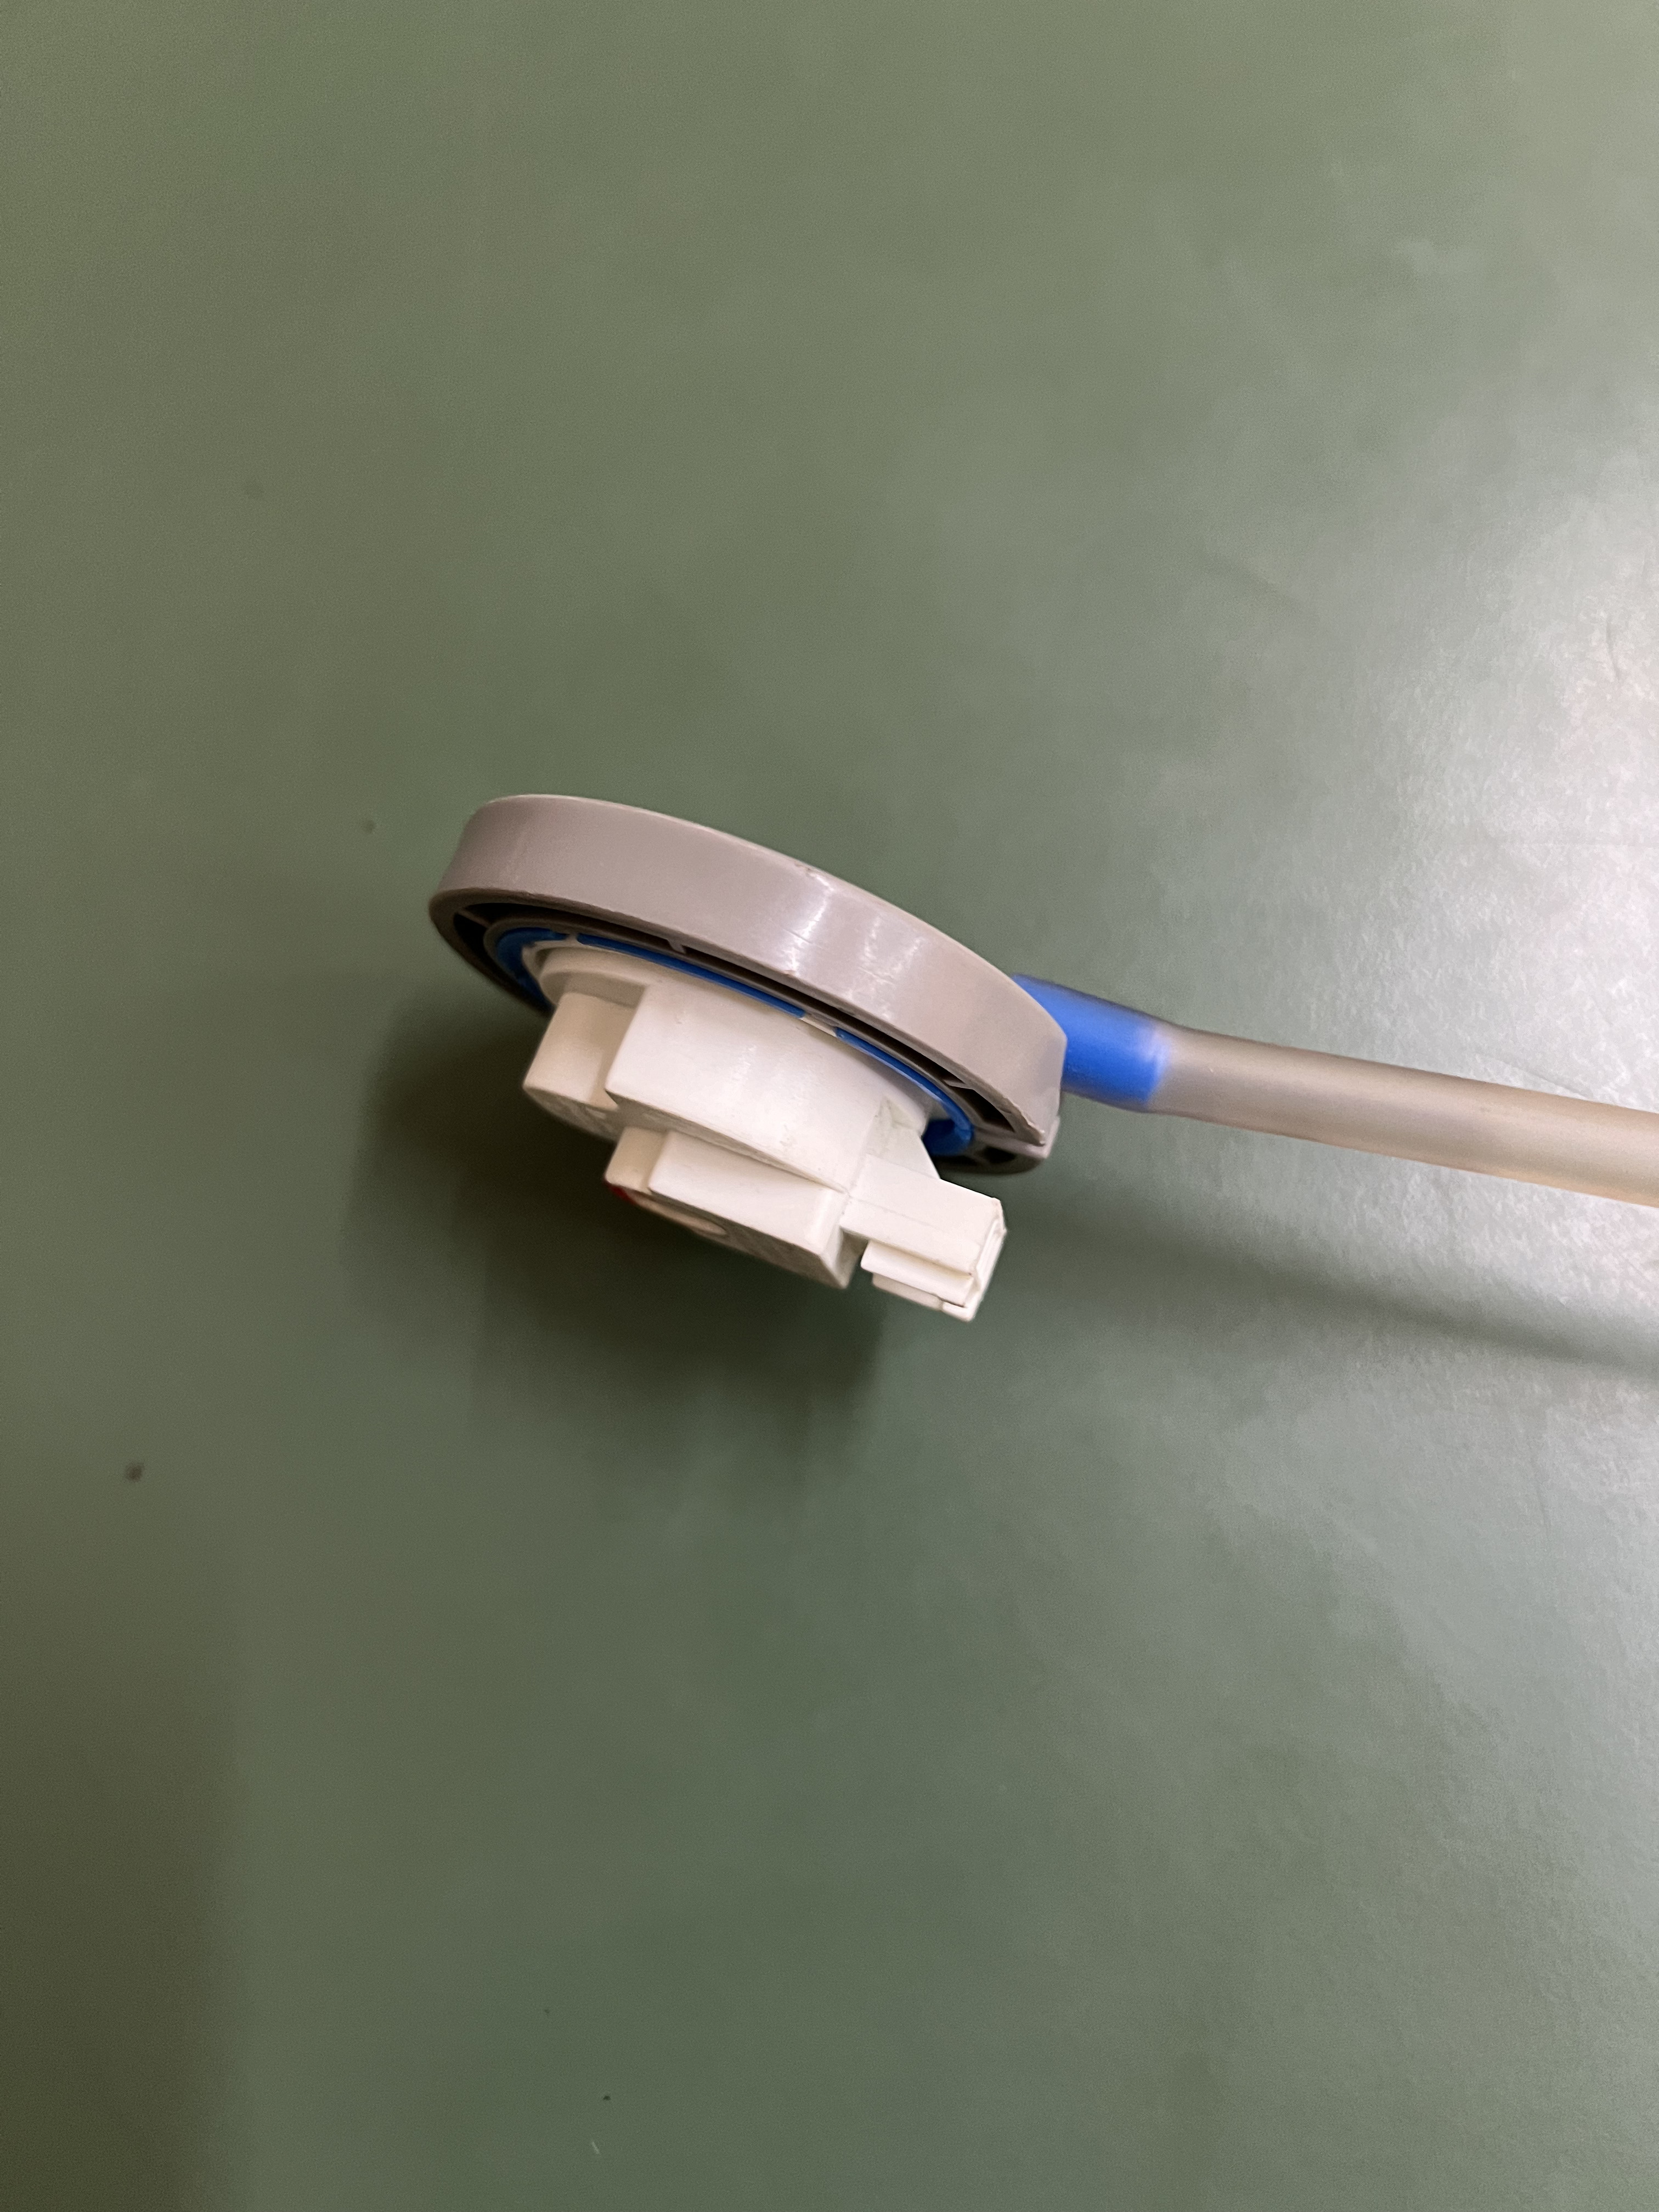pressure_sensor: (306, 738, 1109, 1357)
